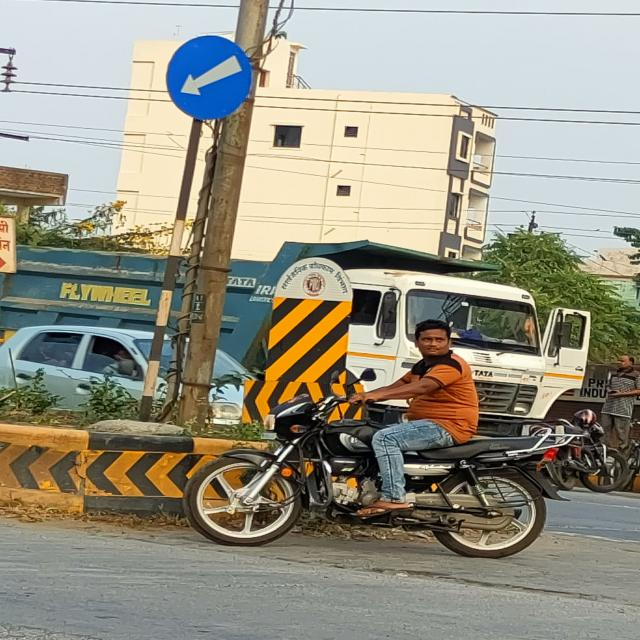COMPULSARY_KEEP_LEFT: (163, 31, 254, 124)
